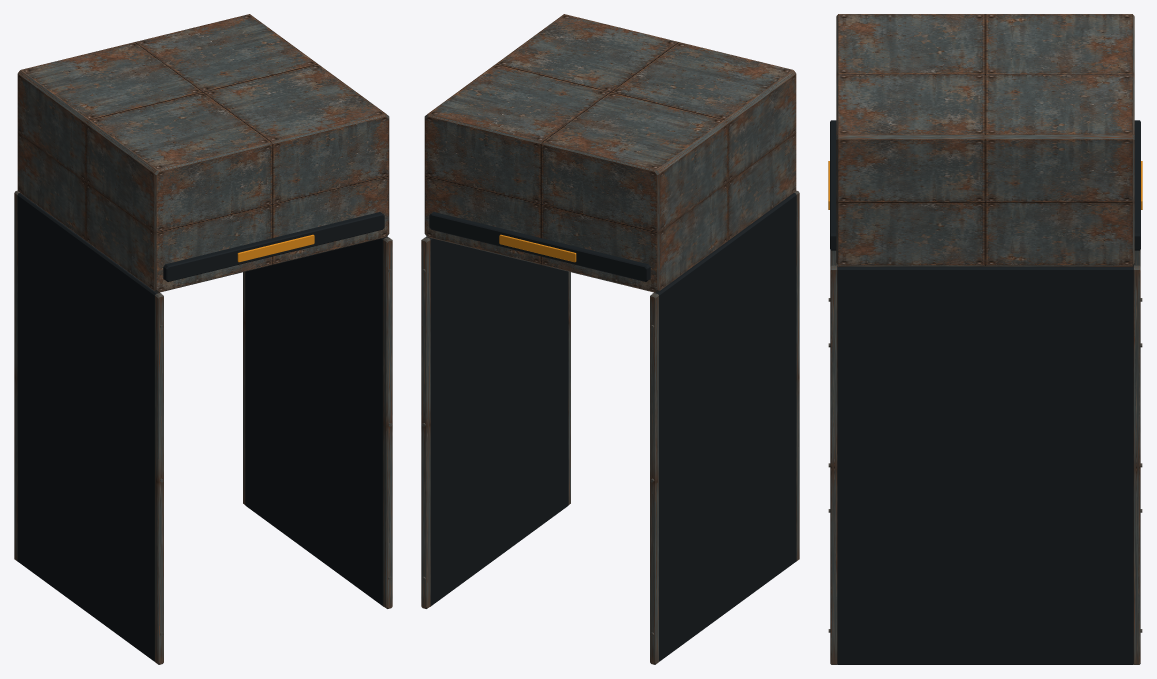
The model's file is SteelDoorFrame.obj.
3 views of the same model, side by side, from view 1: azimuth 30°, elevation 25°; view 2: azimuth 150°, elevation 25°; view 3: azimuth 270°, elevation 25° (orthographic). The views are drawn at different scales.
Parts seen in each view (by area): view 1: SteelDoorFrame; view 2: SteelDoorFrame; view 3: SteelDoorFrame.
Boxes of the visible parts, x1,y1,x2,y2 form: SteelDoorFrame: (14,14,392,664); SteelDoorFrame: (421,14,799,664); SteelDoorFrame: (828,14,1142,664).
Bounding box in the file's own units: 2 × 4 × 2.15.
3 materials, 1 textured.
